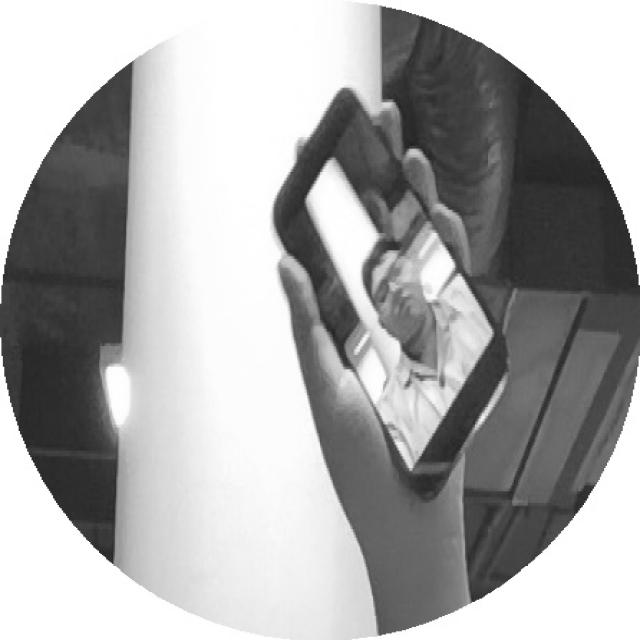fake: (244, 75, 527, 513), (261, 86, 535, 512)
